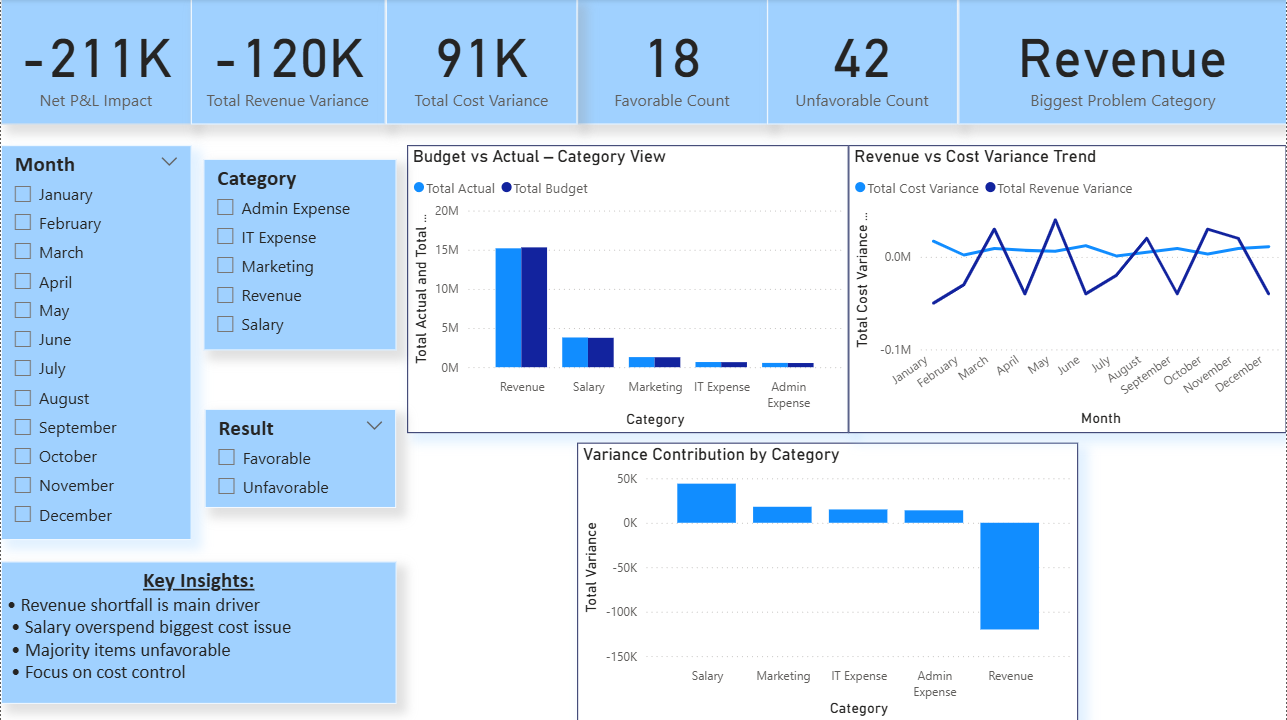

The page's visual inventory and layout, read from the dashboard file:
{"tool":"powerbi","page":{"name":"Page 1","canvas":[1280,720],"ordinal":0},"visuals":[{"type":"card","fields":{"Values":["Data.Net P&L Impact"]},"box":[0,0,189.4,124.9],"z":0},{"type":"card","fields":{"Values":["Data.Total Revenue Variance"]},"box":[189.4,0,193.5,124.9],"z":1000},{"type":"card","fields":{"Values":["Data.Favorable Count"]},"box":[573.6,0,189.4,124.9],"z":2000},{"type":"card","fields":{"Values":["Data.Unfavorable Count"]},"box":[763,0,189.4,124.9],"z":3000},{"type":"card","fields":{"Values":["Data.Total Cost Variance"]},"box":[382.8,0,190.7,124.9],"z":4000},{"type":"slicer","fields":{"Values":["Data.Month"]},"box":[0,145.5,189.4,392.5],"z":5000},{"type":"slicer","fields":{"Values":["Data.Category"]},"box":[201.7,159.2,192.1,190.7],"z":6000},{"type":"slicer","fields":{"Values":["Data.Result"]},"box":[203.1,407.5,190.7,98.8],"z":7000},{"type":"clusteredColumnChart","title":"Budget vs Actual – Category View","fields":{"Category":["Data.Category"],"Y":["Data.Total Actual","Data.Total Budget"]},"box":[404.8,145.5,439.1,286.8],"z":8000},{"type":"clusteredColumnChart","title":"Variance Contribution by Category","fields":{"Category":["Data.Category"],"Y":["Data.Total Variance"]},"box":[573.6,441.9,498.1,278.6],"z":9000},{"type":"lineChart","title":"Revenue vs Cost Variance Trend","fields":{"Category":["Data.Month"],"Y":["Data.Total Cost Variance","Data.Total Revenue Variance"]},"box":[843.4,145.5,436.6,286.1],"z":10000},{"type":"card","fields":{"Values":["Data.Biggest Problem Category"]},"box":[952.3,0,328,124.9],"z":11000},{"type":"textbox","box":[0,559.9,393.8,141.3],"z":12000}]}

Visuals, with their boxes in screenshot pixels (x1, y1, x2, y2), scaled from the page's 1280x720 canvas onto the 1287x720 screenshot:
card - Data.Net P&L Impact: [0, 0, 190, 125]
card - Data.Total Revenue Variance: [190, 0, 385, 125]
card - Data.Favorable Count: [577, 0, 767, 125]
card - Data.Unfavorable Count: [767, 0, 958, 125]
card - Data.Total Cost Variance: [385, 0, 577, 125]
slicer - Data.Month: [0, 146, 190, 538]
slicer - Data.Category: [203, 159, 396, 350]
slicer - Data.Result: [204, 408, 396, 506]
"Budget vs Actual – Category View" clusteredColumnChart: [407, 146, 849, 432]
"Variance Contribution by Category" clusteredColumnChart: [577, 442, 1078, 719]
"Revenue vs Cost Variance Trend" lineChart: [848, 146, 1286, 432]
card - Data.Biggest Problem Category: [958, 0, 1286, 125]
textbox: [0, 560, 396, 701]
